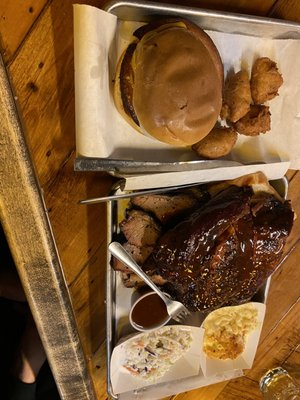salad: (114, 16, 224, 148), (201, 303, 262, 361)
